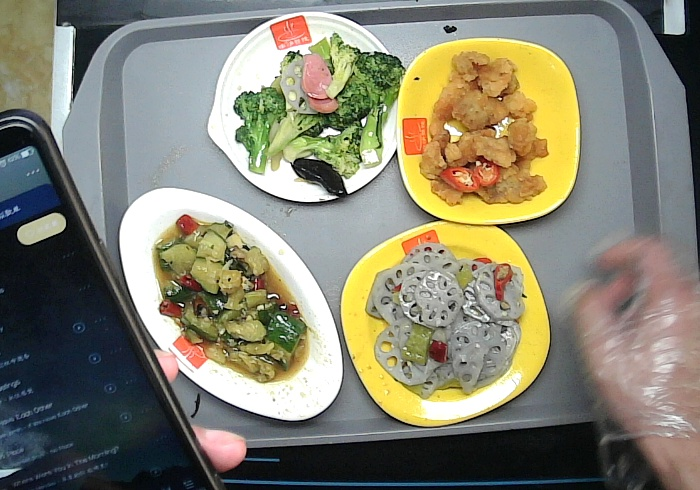SHKJ-Bao_Yu_Pan: (206, 11, 410, 204)
SHKJ-Huang_Se_Cai_Die: (398, 37, 581, 227)
SHKJ-Huang_Se_Si_Fang_Cai_Die: (339, 221, 553, 430)
SHKJ-Yu_Pan: (119, 187, 345, 423)
